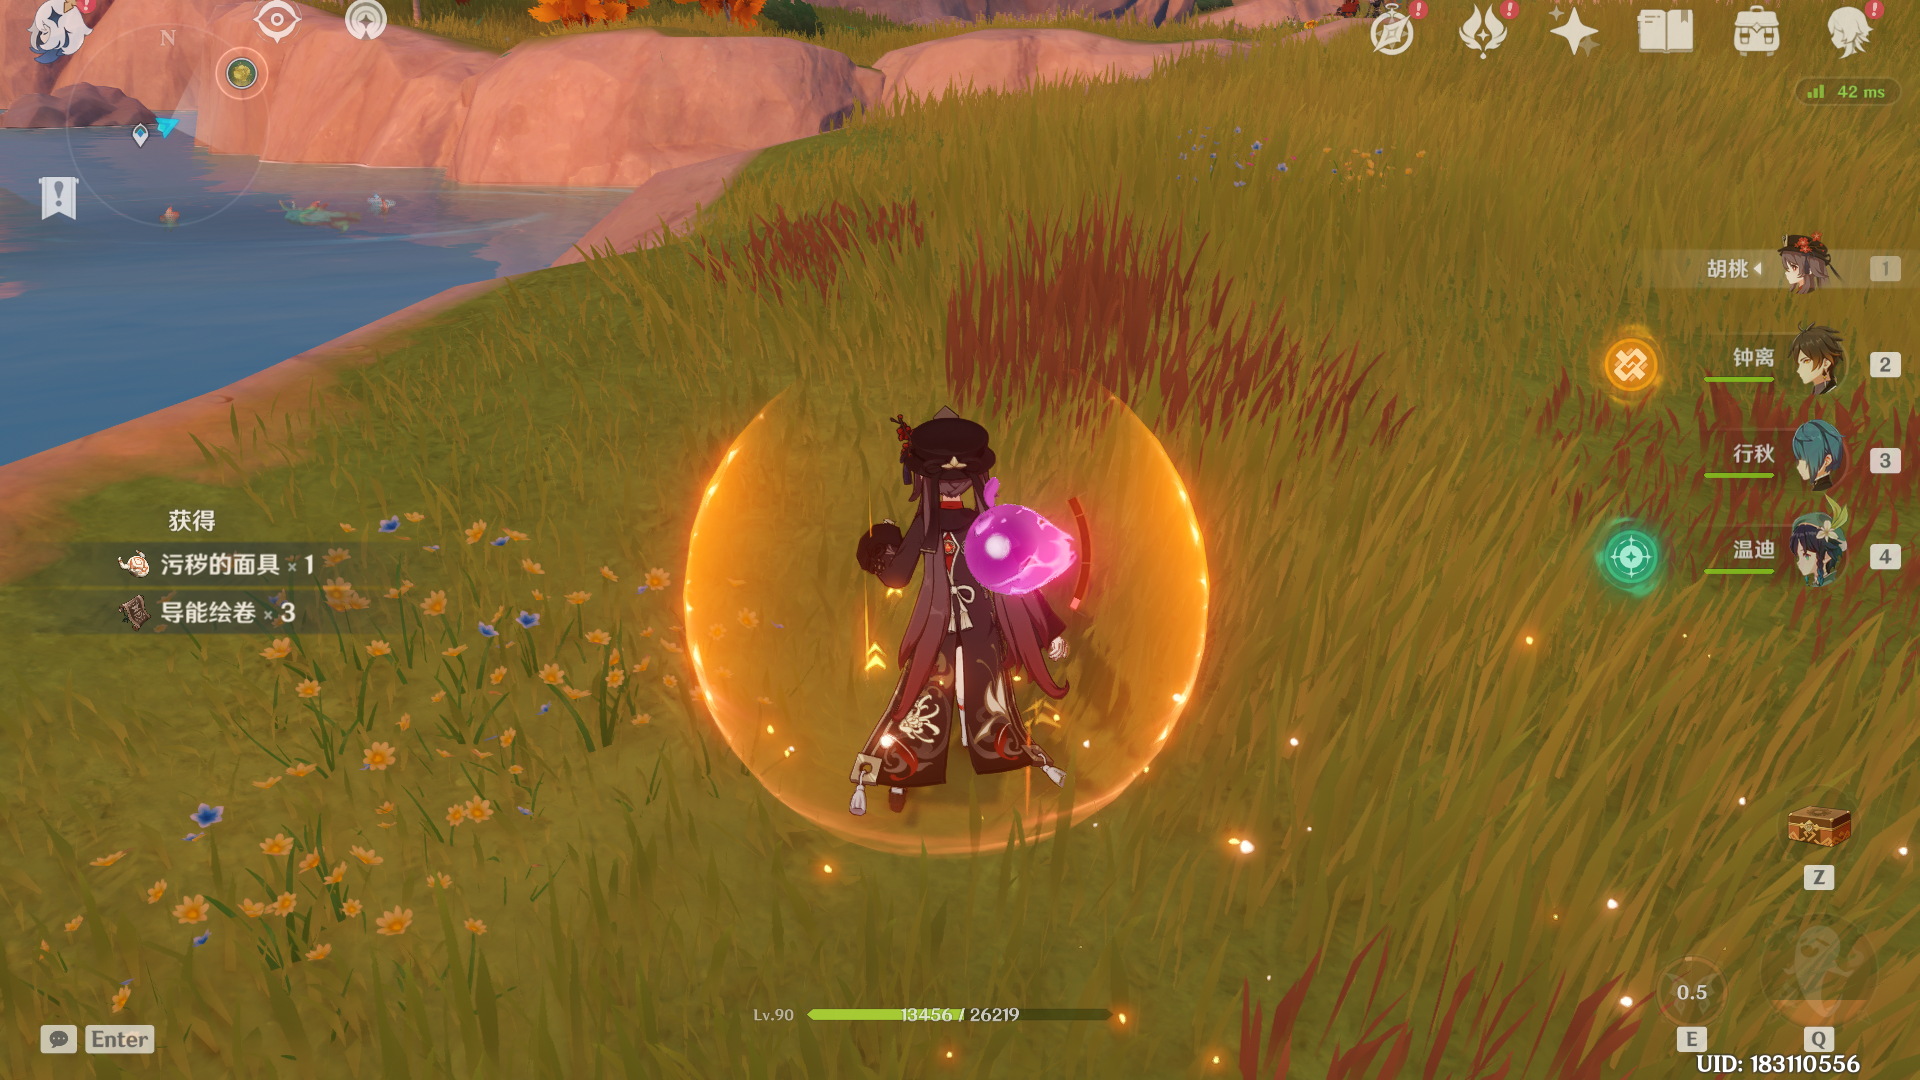character: (798, 384, 1126, 876)
